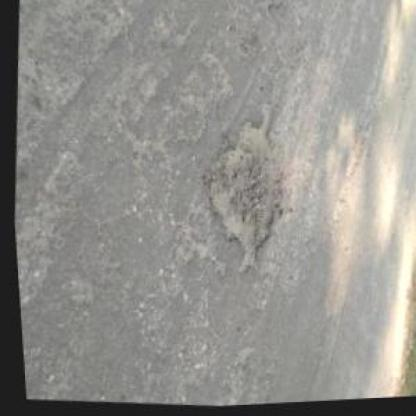pothole: (189, 98, 294, 284)
